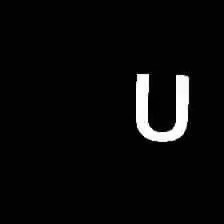LTR_U: (129, 69, 193, 145)
